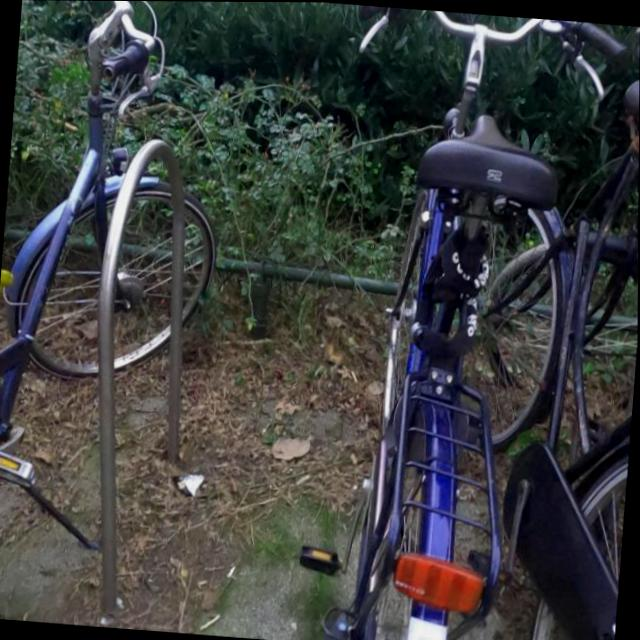Plastic: (174, 471, 206, 497)
